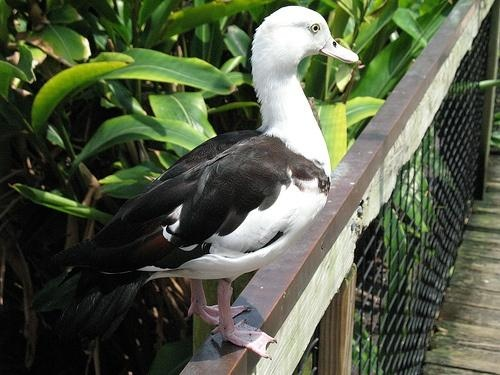bird: (27, 4, 363, 361)
